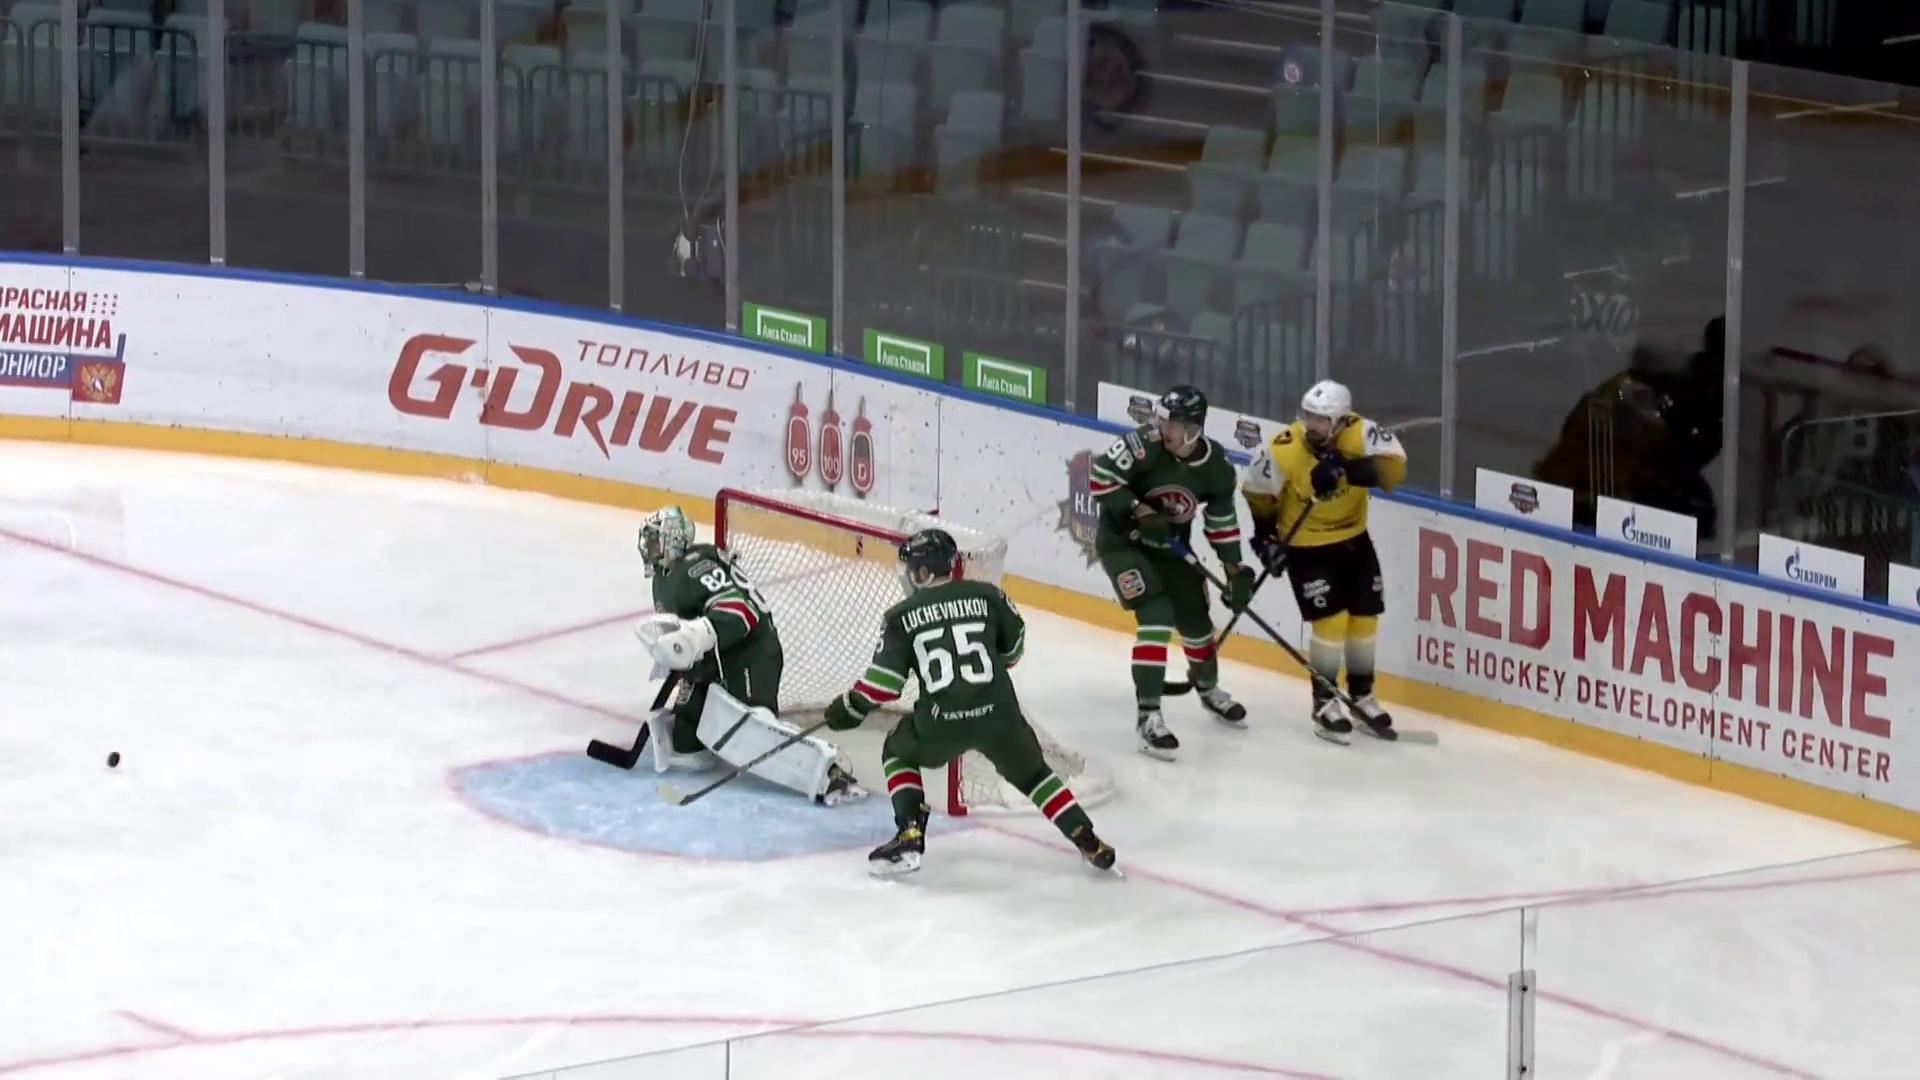ball: (105, 749, 121, 773)
